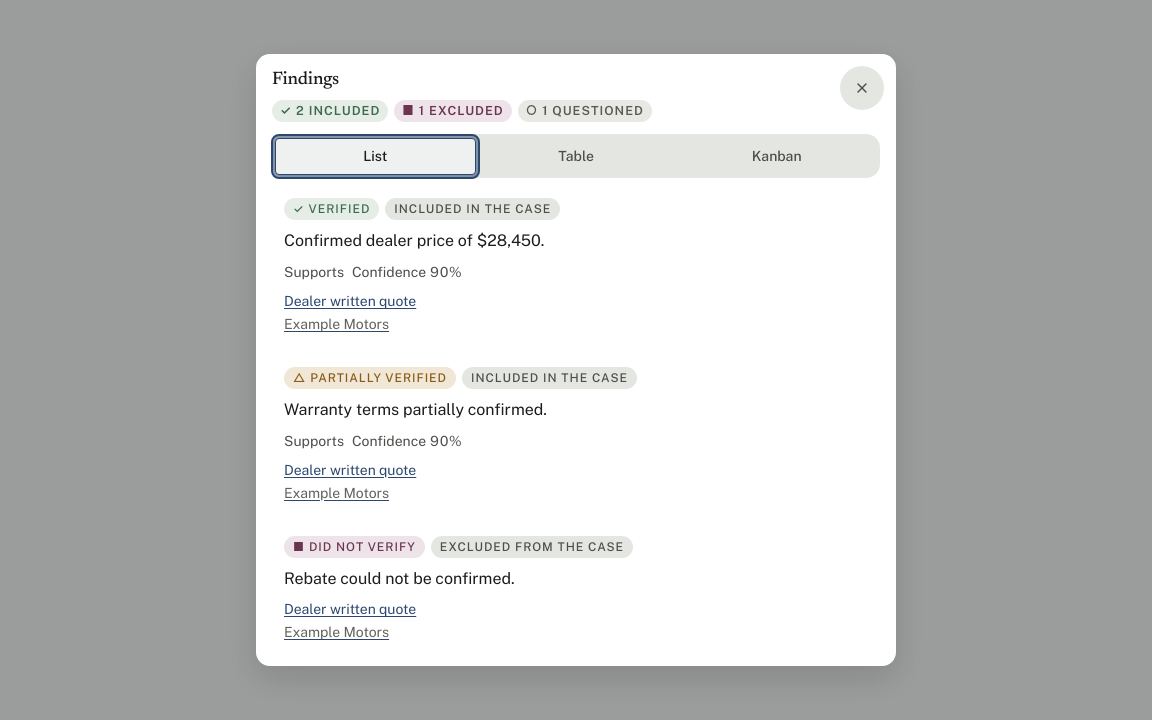
Test: FindingsSheet › switches to the Kanban tab and groups items into Included/Excluded/Questioned columns
Click the tab with test id "findings-sheet-tab-kanban": click(777, 156) [676, 138, 877, 175]
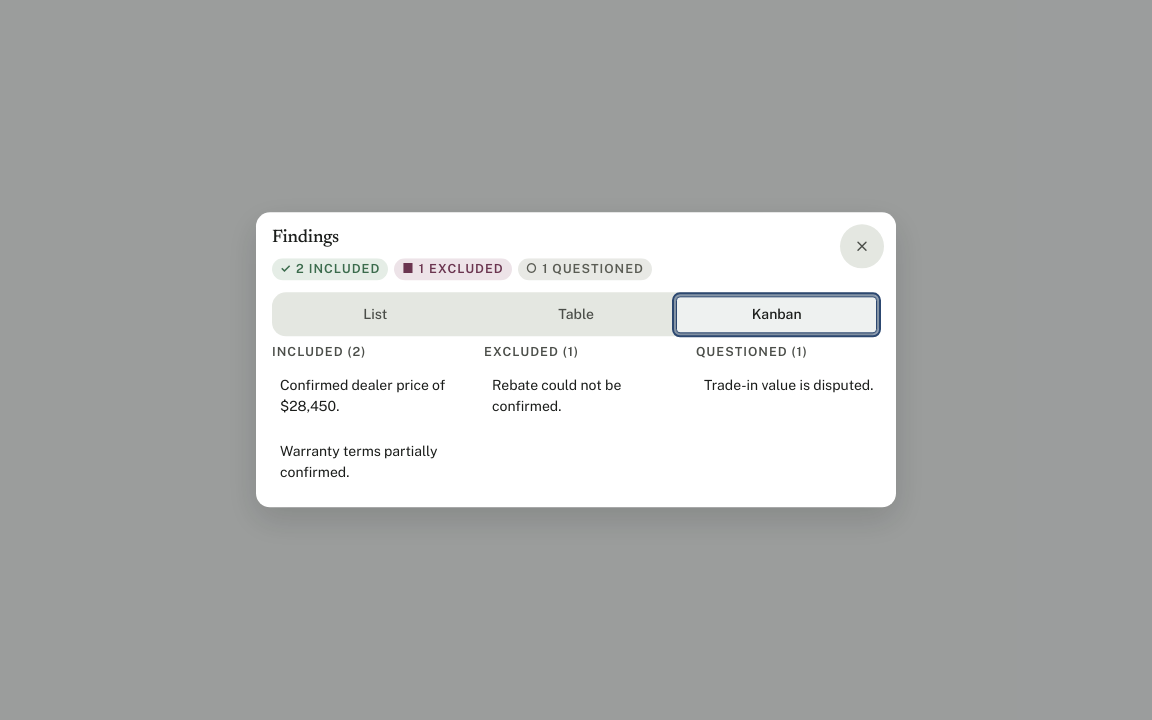
Check: the list item with test id "findings-sheet-kanban-card-evidence-1" reads "Confirmed dealer price of $28,450.", box [280, 378, 445, 415]
Check: the panel with test id "findings-sheet-view-kanban" is shown, box [272, 345, 880, 492]
Check: the list item with test id "findings-sheet-kanban-card-evidence-4" is shown, box [696, 368, 880, 405]
